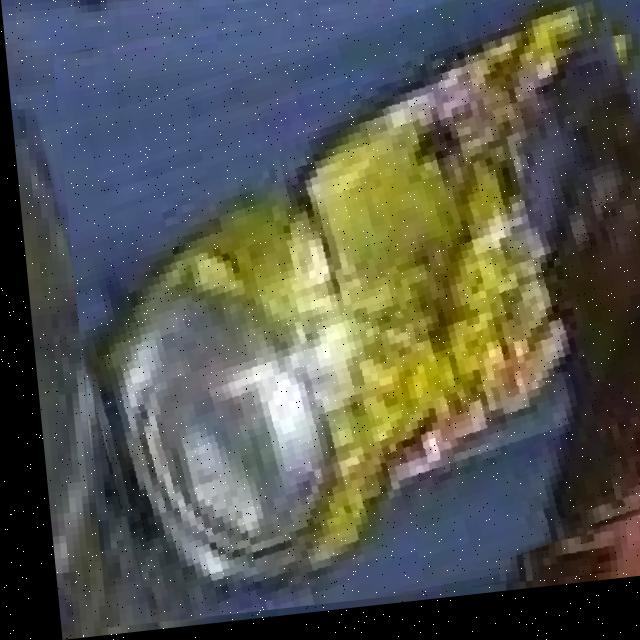can: (68, 0, 590, 617)
